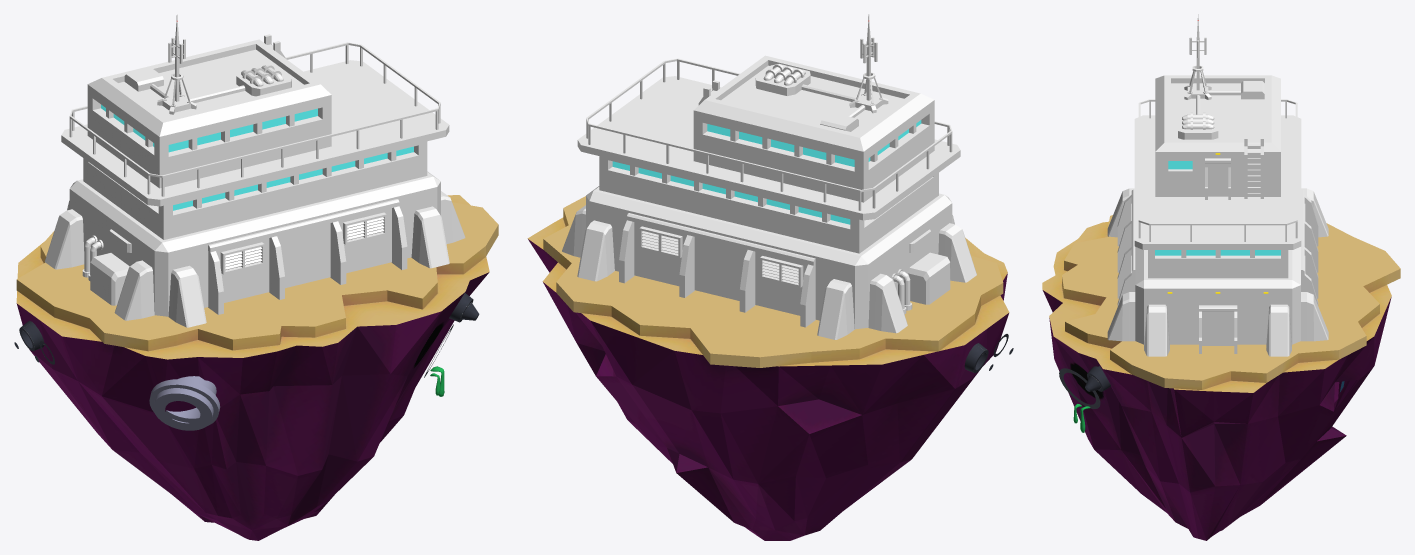
Rendered from cyberpunk-bar.glb.
3 renders of one model, left to right at view 1: azimuth 30°, elevation 25°; view 2: azimuth 150°, elevation 25°; view 3: azimuth 270°, elevation 25°, orthographic. The views are drawn at different scales.
Visible parts, largest first — view 1: Office building_1_, Object_20.003, Object_7.002, Object_21.002; view 2: Office building_1_, Object_20.003, Object_21.002; view 3: Object_20.003, Office building_1_.
Boxes of the visible parts, x1,y1,x2,y2 form: Office building_1_: (44, 14, 465, 327); Object_20.003: (16, 195, 498, 540); Object_7.002: (149, 376, 220, 430); Object_21.002: (14, 320, 453, 377); Office building_1_: (562, 14, 976, 339); Object_20.003: (527, 196, 1009, 540); Object_21.002: (964, 334, 1013, 373); Object_20.003: (1042, 215, 1400, 540); Office building_1_: (1107, 14, 1328, 356).
Bounding box in the file's own units: 1.63 × 1.85 × 1.27.
Materials: 7 (3 with a texture image).
